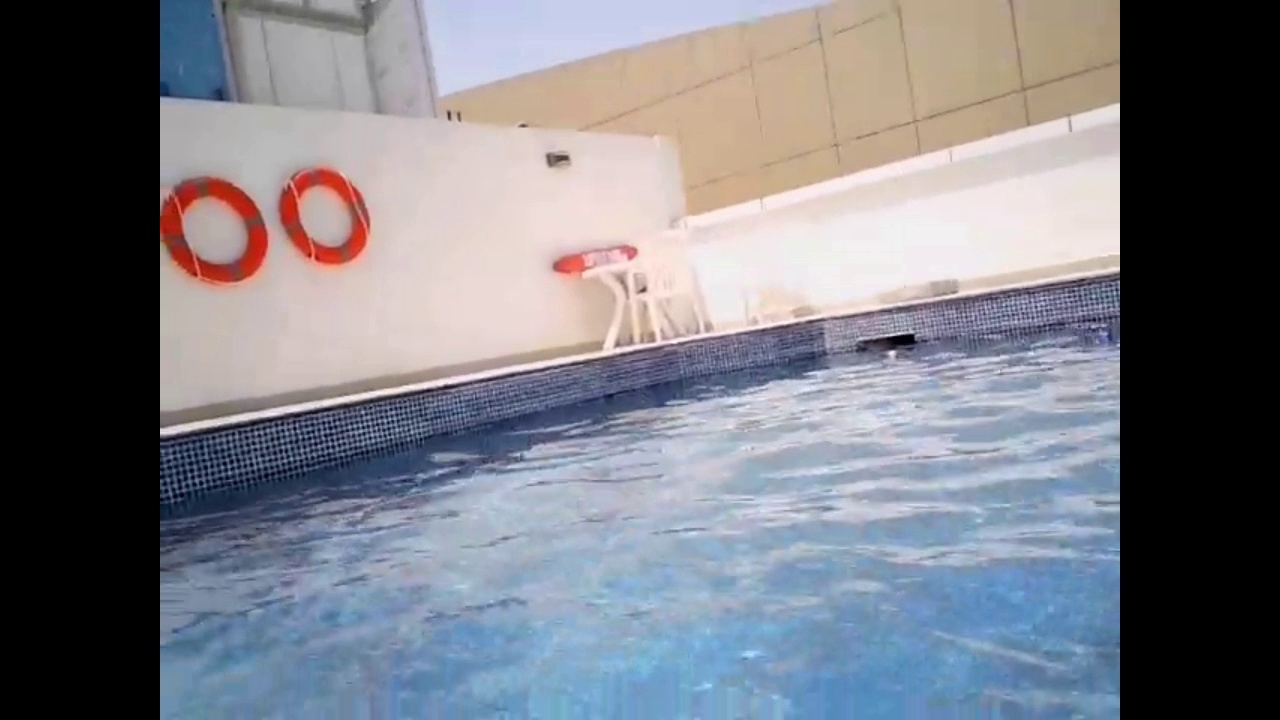debris: (886, 347, 898, 361)
